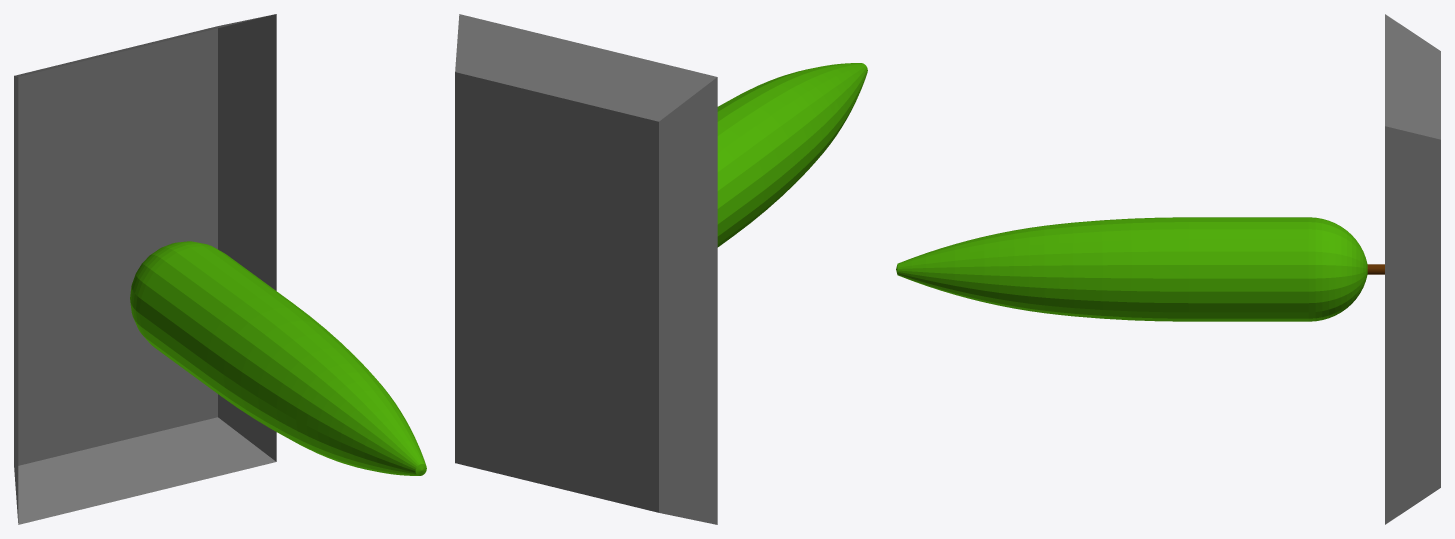
Rendered from LPK7m_kk.obj.
3 views of the same model, side by side, from view 1: azimuth 30°, elevation 25°; view 2: azimuth 150°, elevation 25°; view 3: azimuth 270°, elevation 25° (orthographic). The views are drawn at different scales.
Size of the model in its own units: 3.8 by 6.3 by 7.8.
